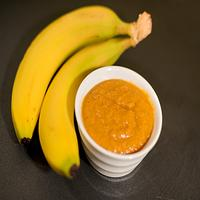banane: (14, 2, 130, 177)
